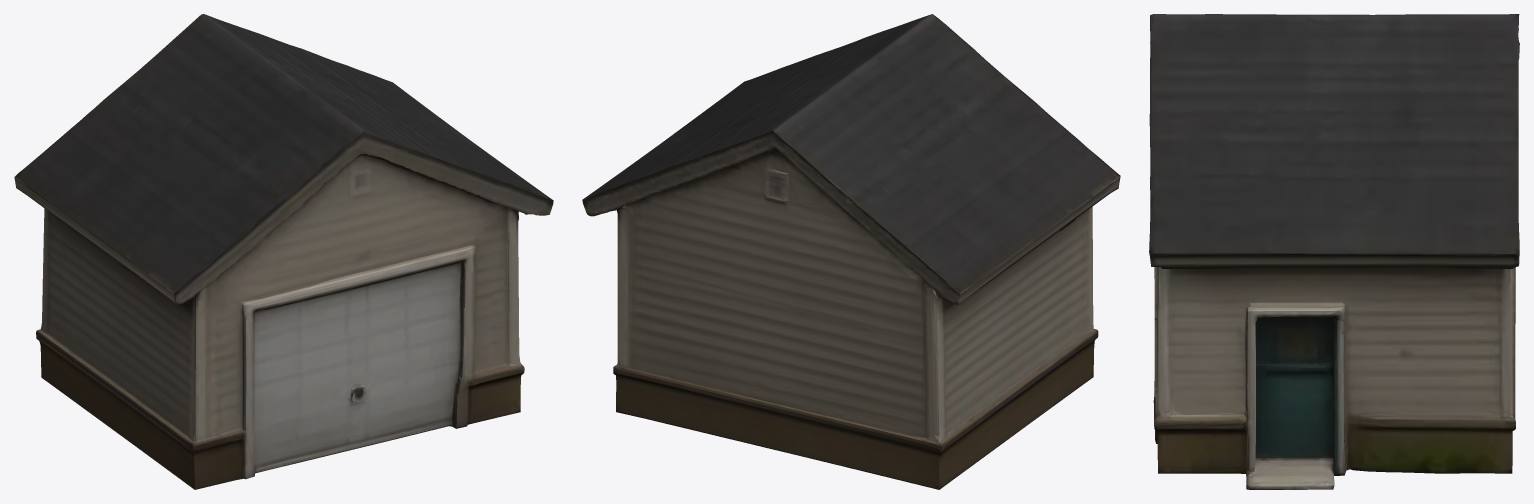
Rendered from garage.glb.
3 renders of one model, left to right at view 1: azimuth 30°, elevation 25°; view 2: azimuth 150°, elevation 25°; view 3: azimuth 270°, elevation 25°, orthographic. The views are drawn at different scales.
Parts seen in each view (by area): view 1: world; view 2: world; view 3: world.
Part boxes in pixels (bbox=[...]): world: bbox=[14, 14, 553, 489]; world: bbox=[582, 14, 1120, 489]; world: bbox=[1149, 14, 1519, 489].
Size of the model in its own units: 0.4935 by 0.4015 by 0.3641.
Materials: 1 (1 with a texture image).
